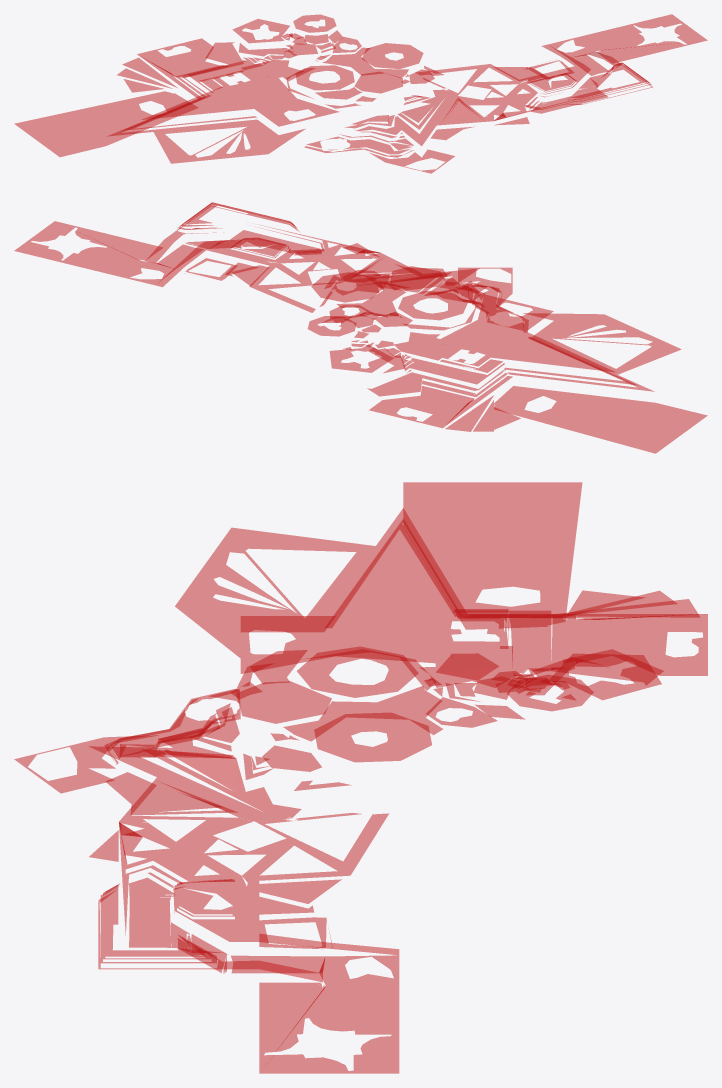
File: Cityscape_014_TeleportArea_0001.fbx
3 views of the same model, one above another, from view 1: azimuth 30°, elevation 25°; view 2: azimuth 150°, elevation 25°; view 3: azimuth 270°, elevation 25° (orthographic). The views are drawn at different scales.
Visible parts, largest first — view 1: TeleportingArea; view 2: TeleportingArea; view 3: TeleportingArea.
Boxes of the visible parts, bbox=[...] form: TeleportingArea: bbox=[14, 14, 707, 173]; TeleportingArea: bbox=[14, 202, 707, 453]; TeleportingArea: bbox=[14, 482, 707, 1073].
Size of the model in its own units: 569 by 39.39 by 287.
